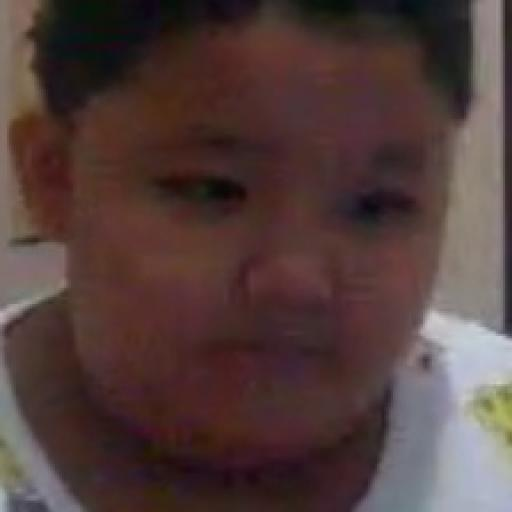Autism: (62, 28, 511, 486)
